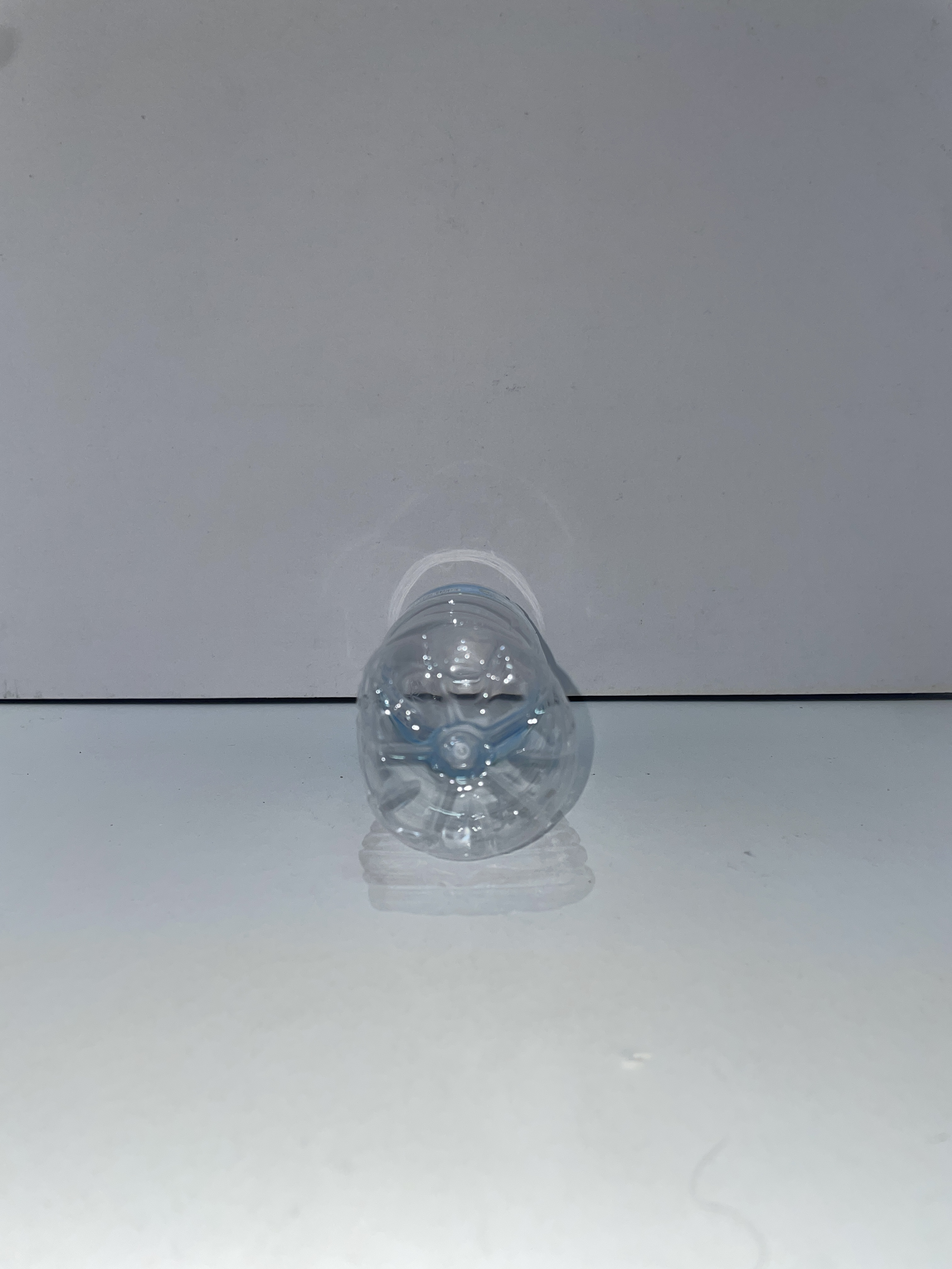natures spring 500ml: (358, 586, 575, 861)
